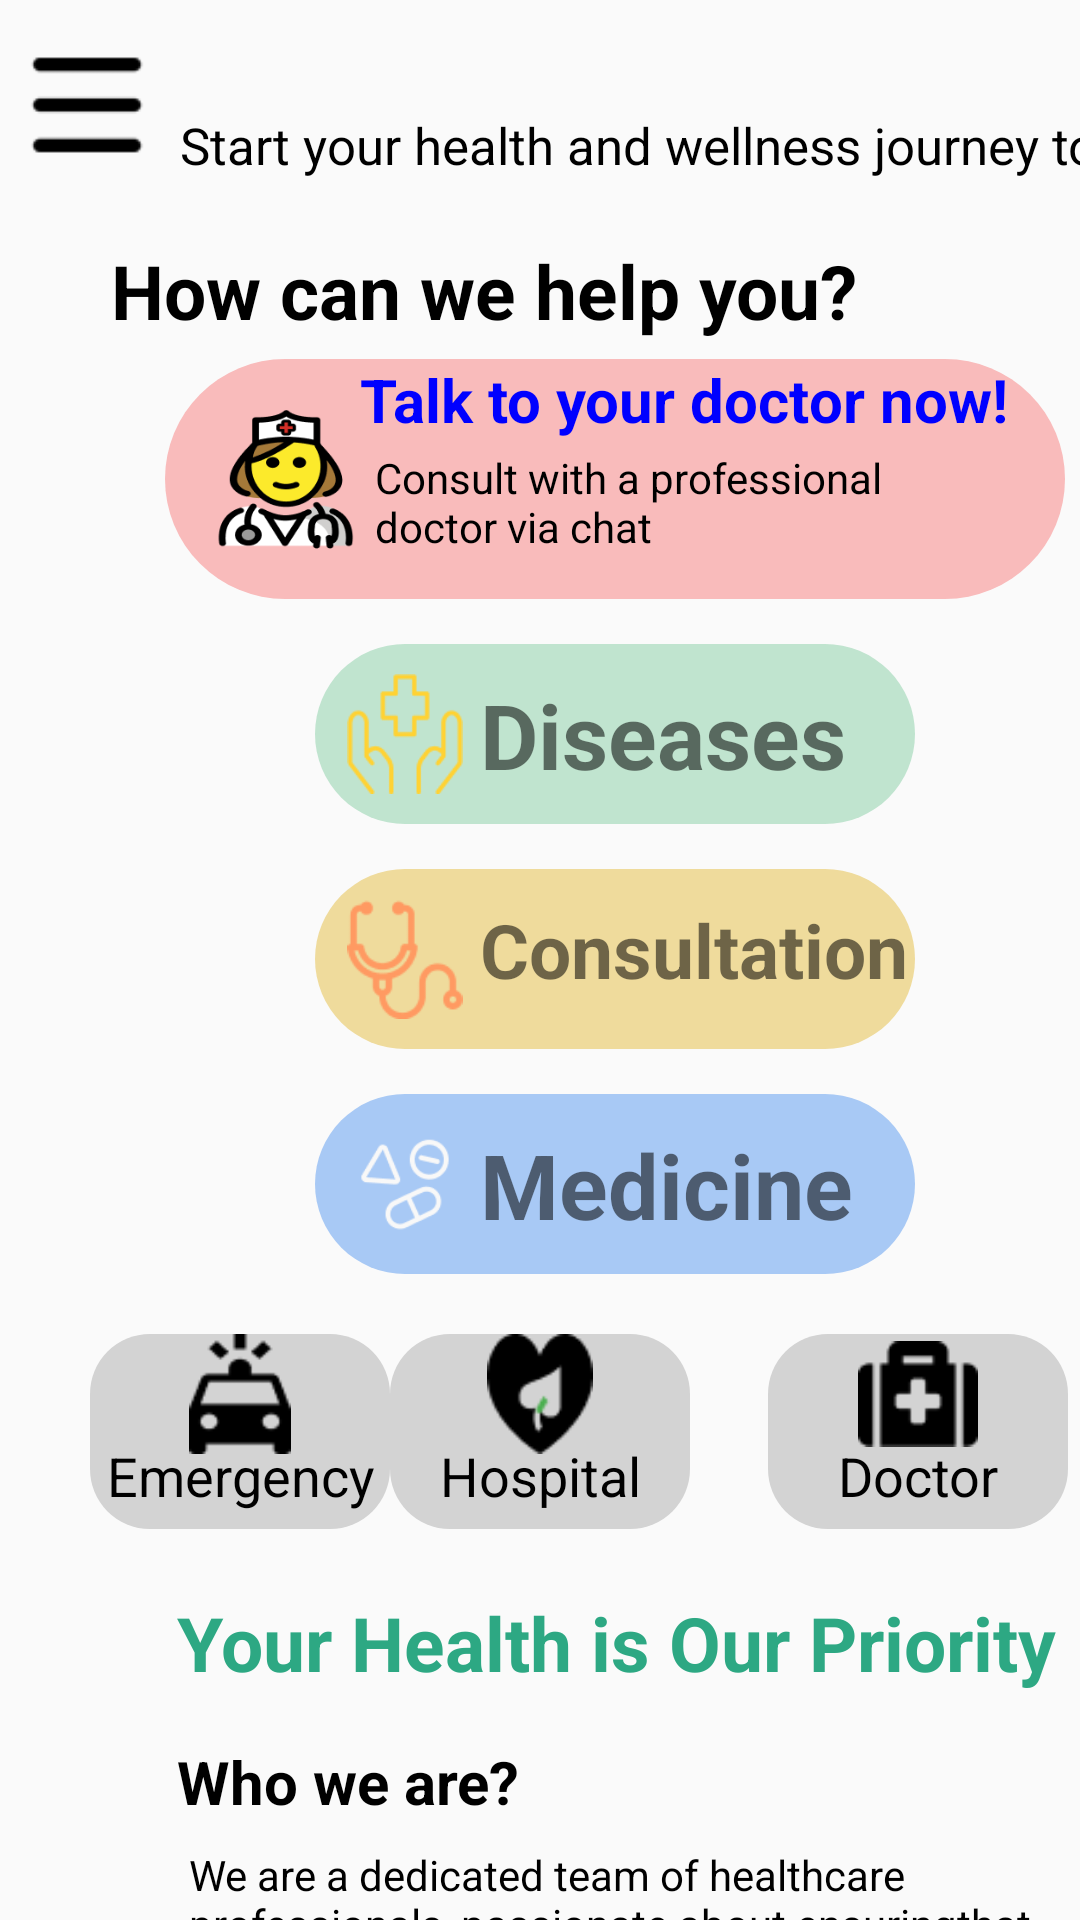

Where icons sit on this 1080*1920 app screen, as detection(x1, y1, x2, y2):
bars: detection(32, 57, 142, 153)
